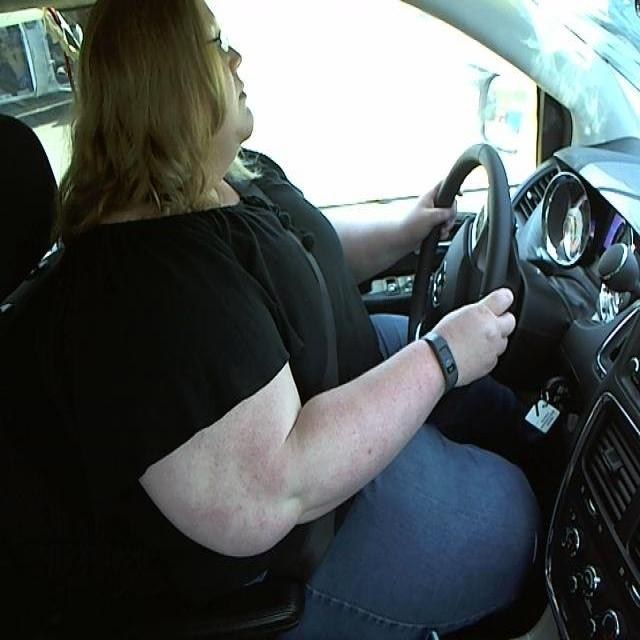without_using_phone: (43, 0, 269, 211)
